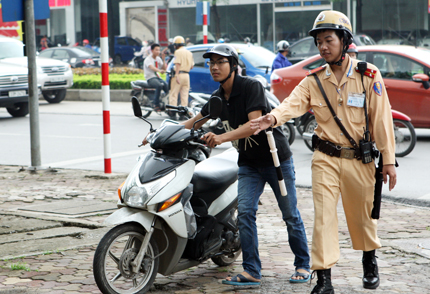police: (240, 9, 405, 283)
